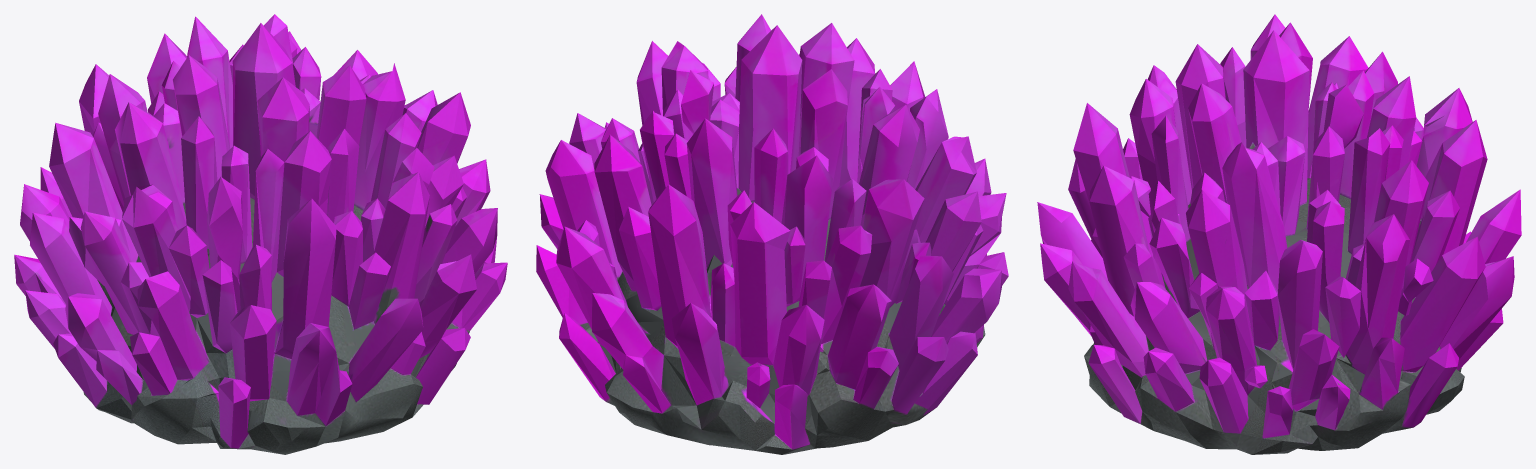
Rendered from crystal_cluster.glb.
3 renders of one model, left to right at view 1: azimuth 30°, elevation 25°; view 2: azimuth 150°, elevation 25°; view 3: azimuth 270°, elevation 25°, orthographic.
Bounding box in the file's own units: 1.88 × 1.56 × 1.89.
Materials: 1 (1 with a texture image).
